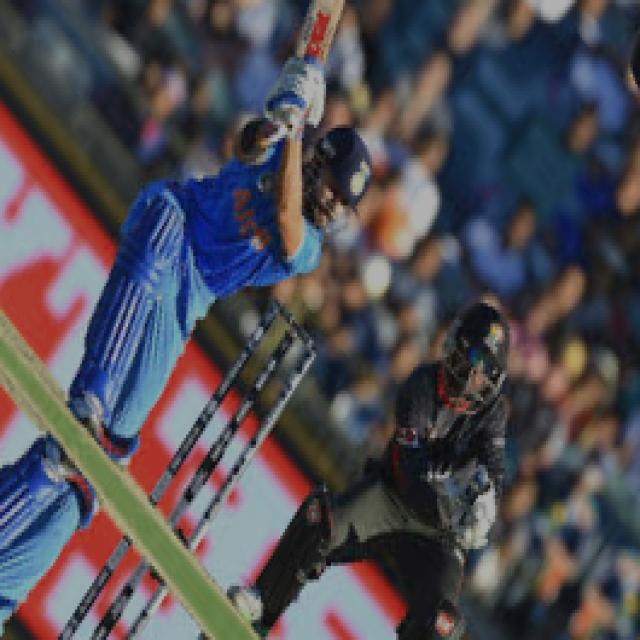toe: (313, 0, 344, 11)
